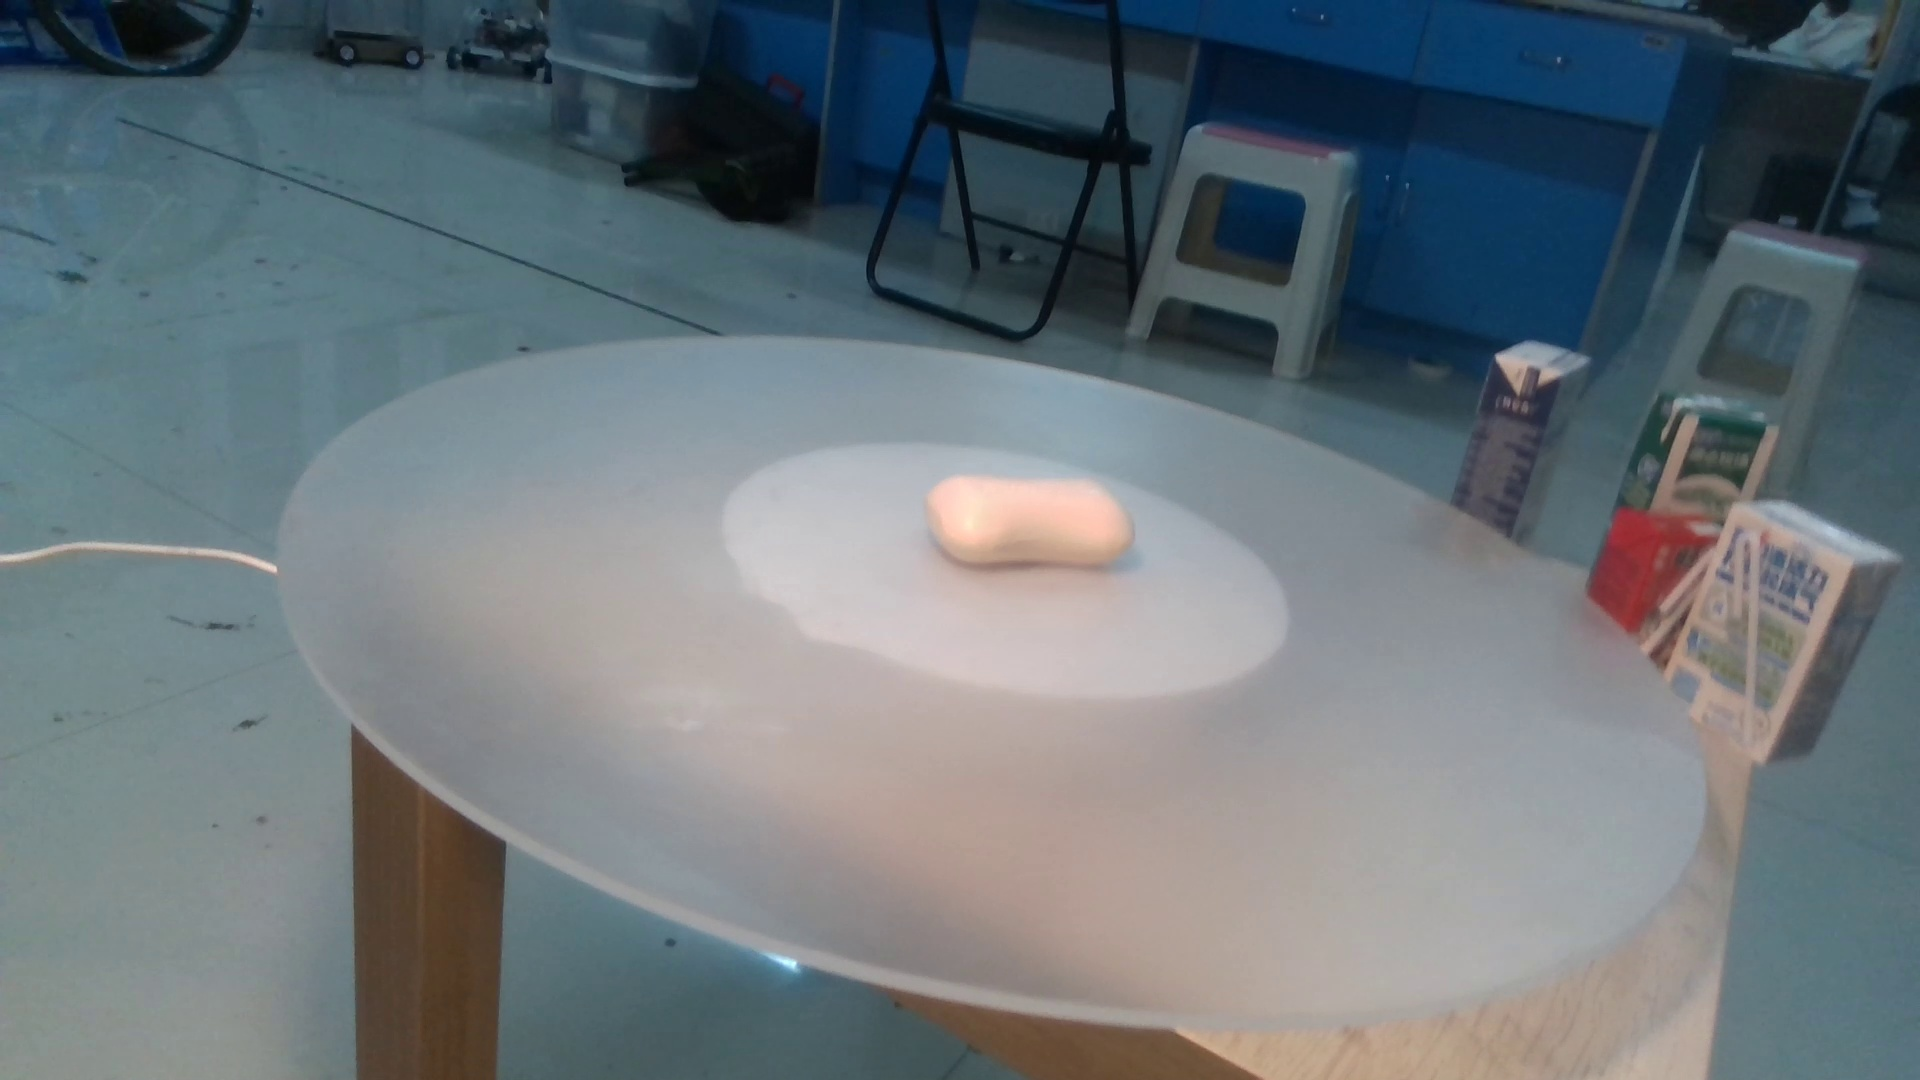CA003_1: (880, 448, 1137, 603)
